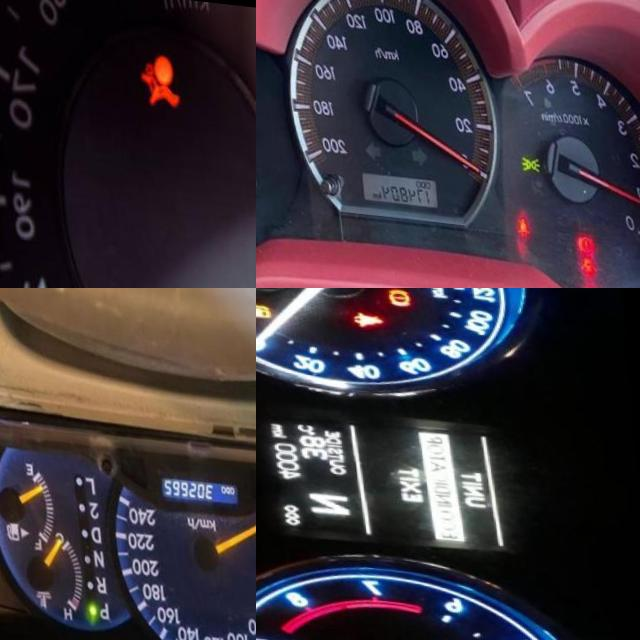Seat Belt: (351, 303, 382, 322), (510, 207, 523, 227)
